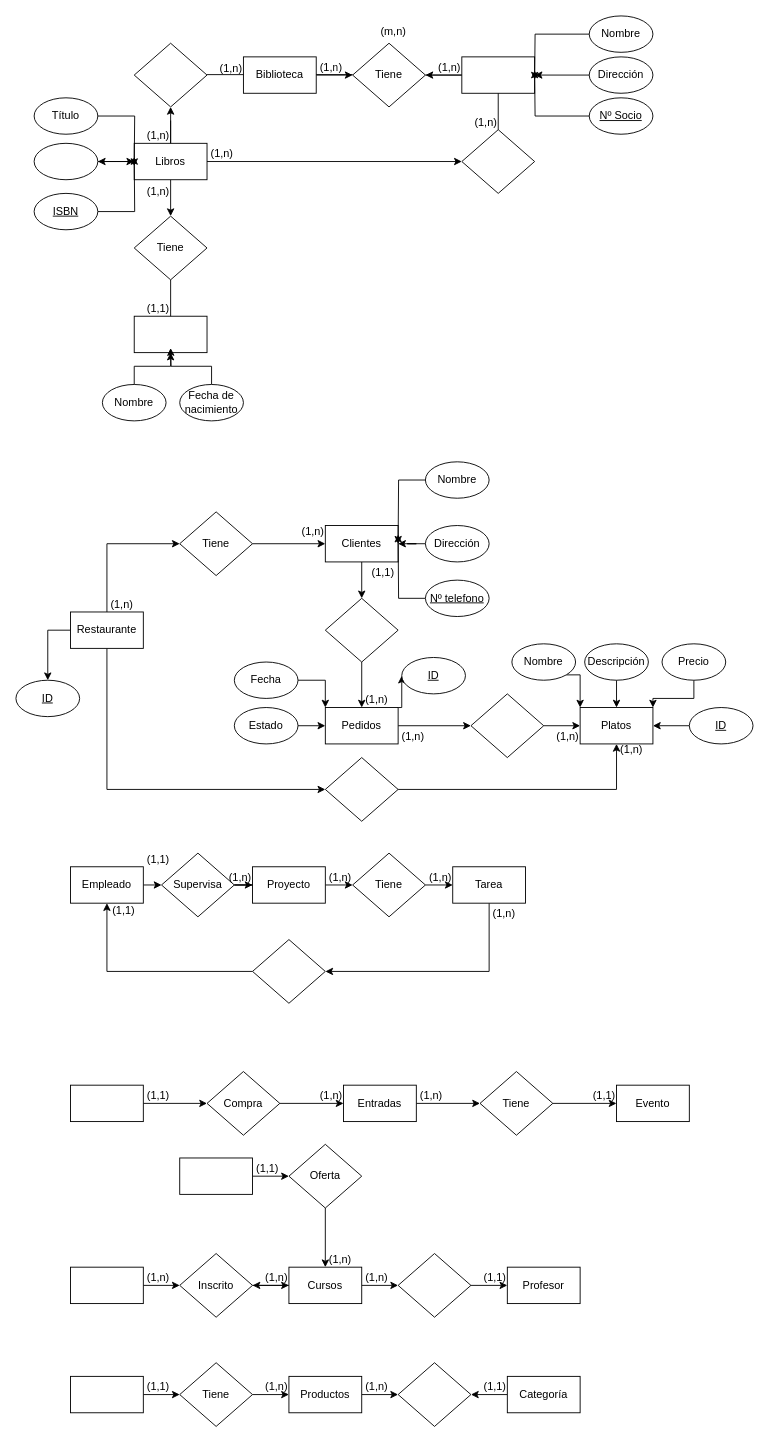
This 769x1442 diagram has some shape labels left out. Here are the shapes that lost their labels. From the top down, the centre of each, then its label:
At pixel 170 74: "Presta".
At pixel 498 74: "Socios".
At pixel 65 161: "Año de publicación".
At pixel 498 161: "Toma".
At pixel 170 334: "Autor".
At pixel 361 629: "Realiza".
At pixel 507 725: "Contienen".
At pixel 361 789: "Cocina".
At pixel 288 971: "Asignada".
At pixel 106 1103: "Cliente".
At pixel 216 1175: "Universidad".
At pixel 106 1285: "Estudiantes".
At pixel 434 1285: "Imparte".
At pixel 106 1394: "Supermercado".
At pixel 434 1394: "Pertenece".
